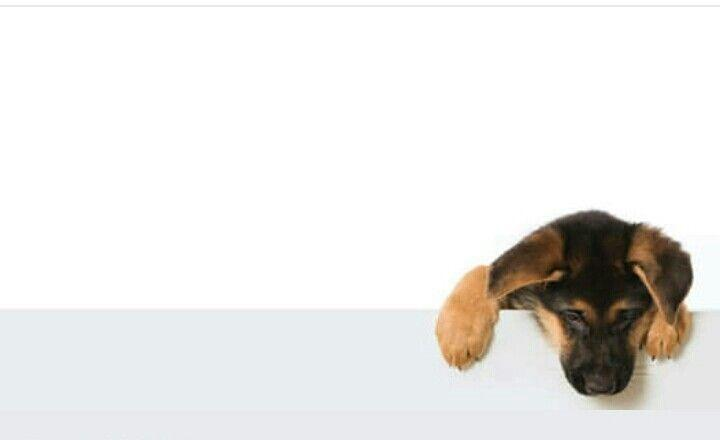puppy-dog: (434, 210, 696, 396)
